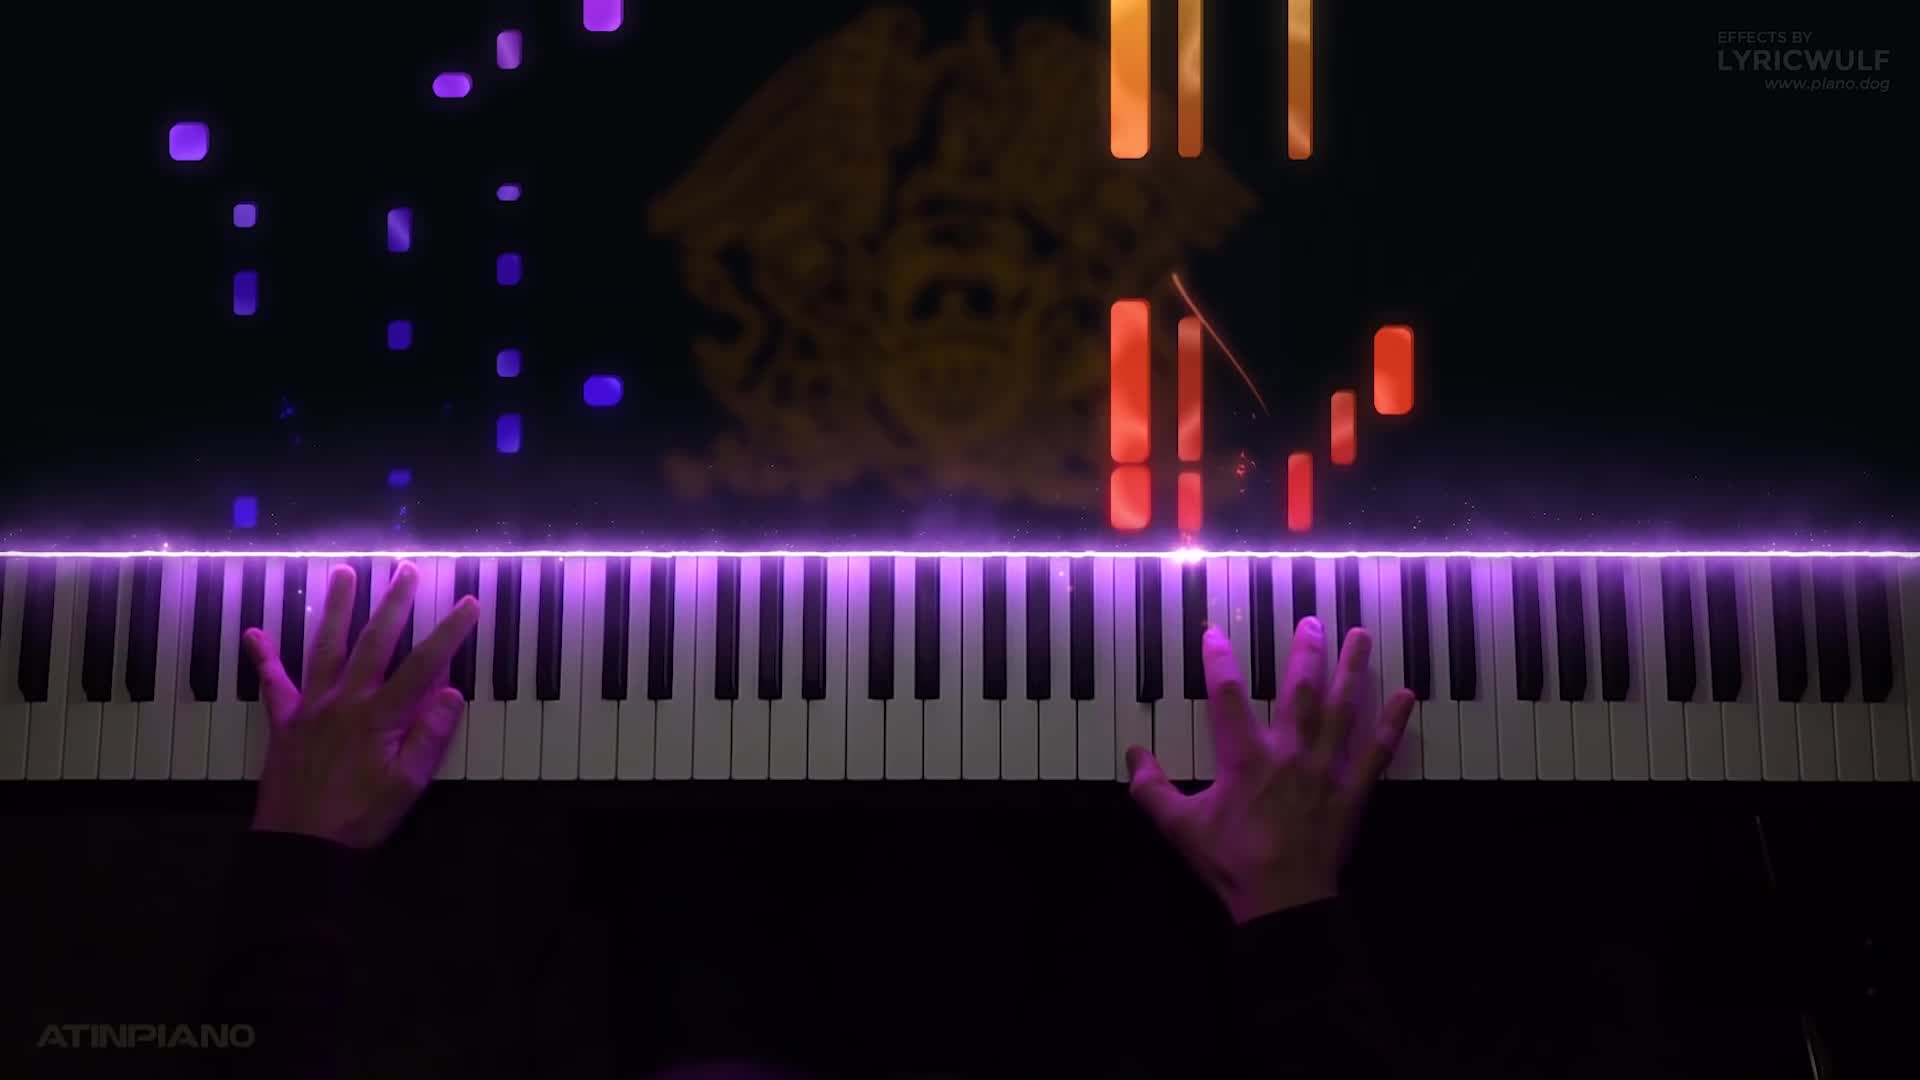left: (248, 559, 476, 824)
right: (1129, 617, 1414, 880)
